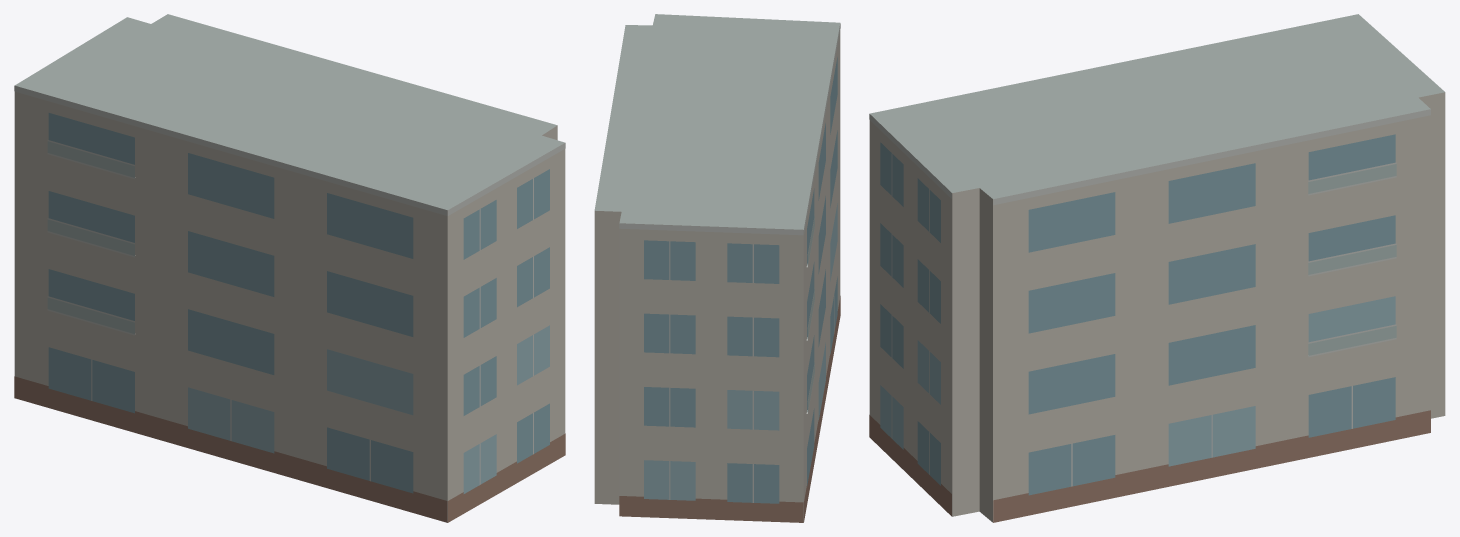
File: survey-upis-32748810.glb
The picture shows the model from 3 angles, left to right: view 1: azimuth 30°, elevation 25°; view 2: azimuth 150°, elevation 25°; view 3: azimuth 270°, elevation 25°; orthographic projection. The views are drawn at different scales.
Parts seen in each view (by area): view 1: survey-upis-32748810.tmp; view 2: survey-upis-32748810.tmp; view 3: survey-upis-32748810.tmp.
Boxes of the visible parts, x1,y1,x2,y2 form: survey-upis-32748810.tmp: (14, 14, 565, 522); survey-upis-32748810.tmp: (594, 14, 840, 522); survey-upis-32748810.tmp: (869, 14, 1445, 522).
Bounding box in the file's own units: 15.84 × 12.9 × 20.81.
